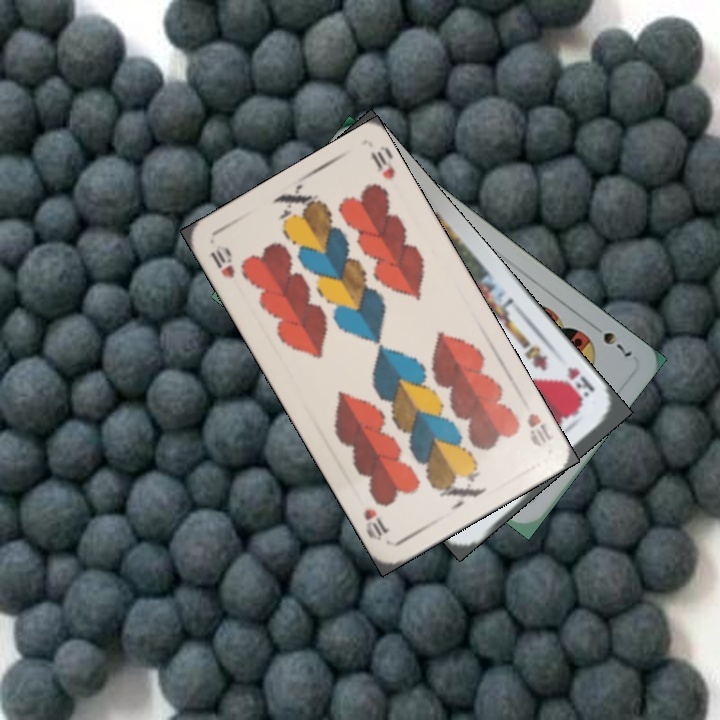H10: (522, 409, 556, 450), (206, 240, 237, 281)
HK: (563, 363, 598, 400)
S7: (586, 318, 635, 360)
